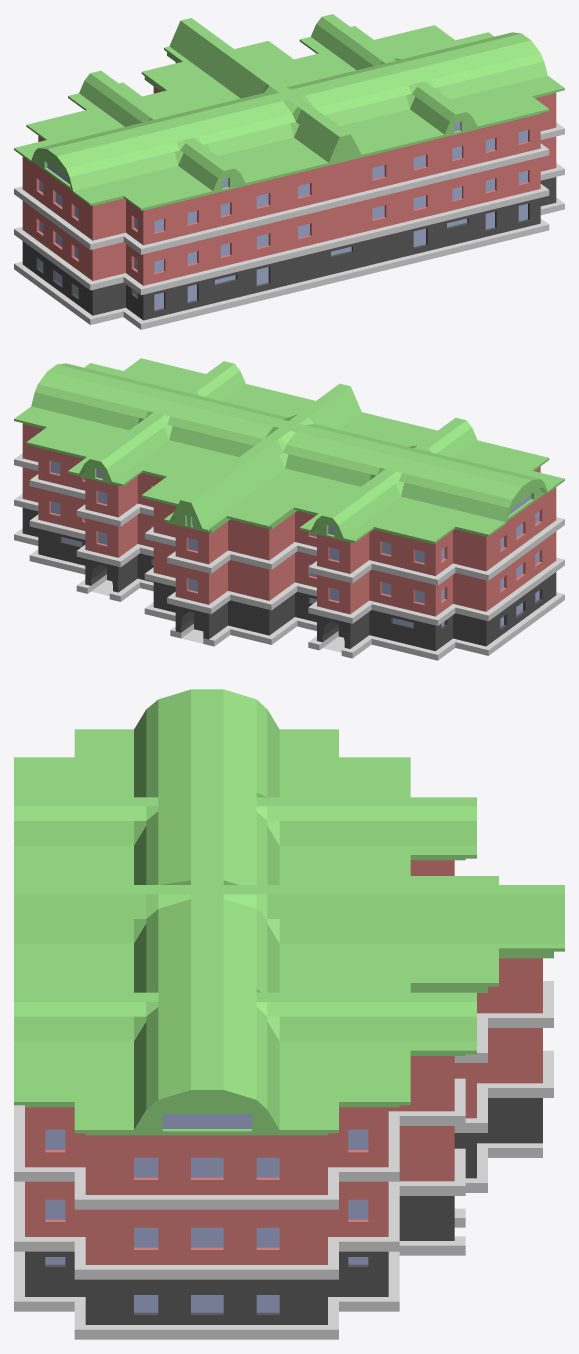
Rendered from MorHouse3.fbx.
3 renders of one model, top to bottom at view 1: azimuth 30°, elevation 25°; view 2: azimuth 150°, elevation 25°; view 3: azimuth 270°, elevation 25°, orthographic. The views are drawn at different scales.
Visible parts, largest first — view 1: Cube.001; view 2: Cube.001; view 3: Cube.001.
Part boxes in pixels (x1=…): Cube.001: x1=14, y1=14, x2=564, y2=329; Cube.001: x1=14, y1=358, x2=564, y2=660; Cube.001: x1=14, y1=689, x2=564, y2=1339.
Bounding box in the file's own units: 8600 × 2500 × 5000.
